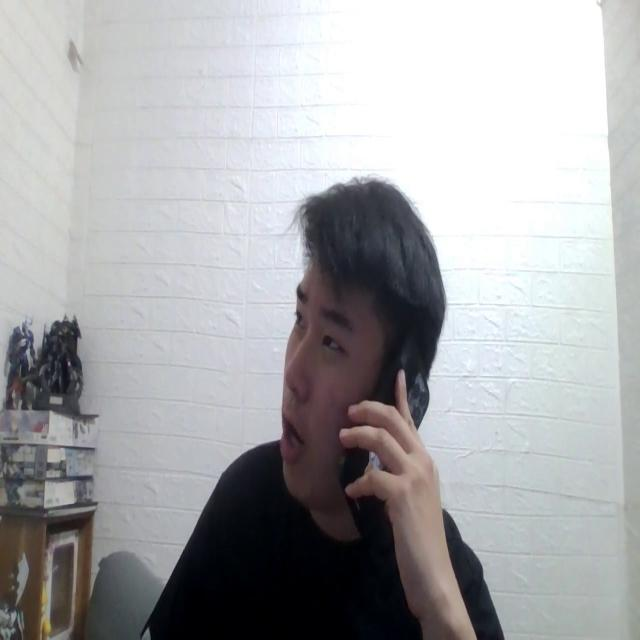phone: (335, 310, 431, 540)
student: (128, 172, 505, 640)
